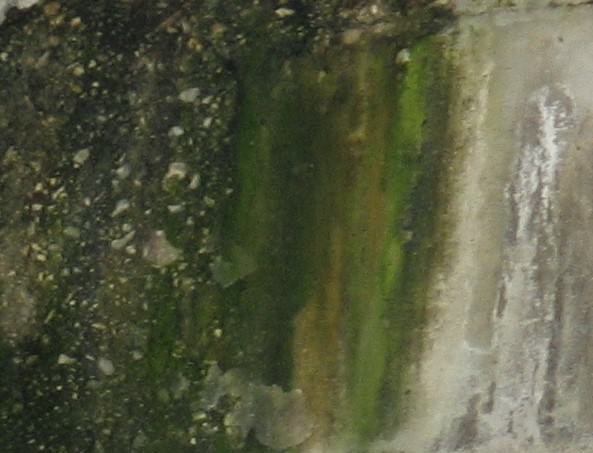Corrosion: (1, 1, 467, 453), (468, 86, 593, 453)
